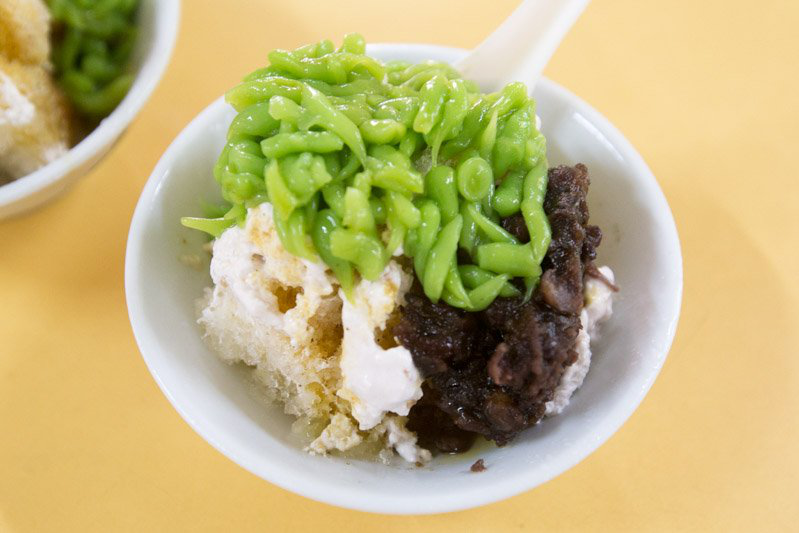Chendol: (194, 30, 640, 463)
